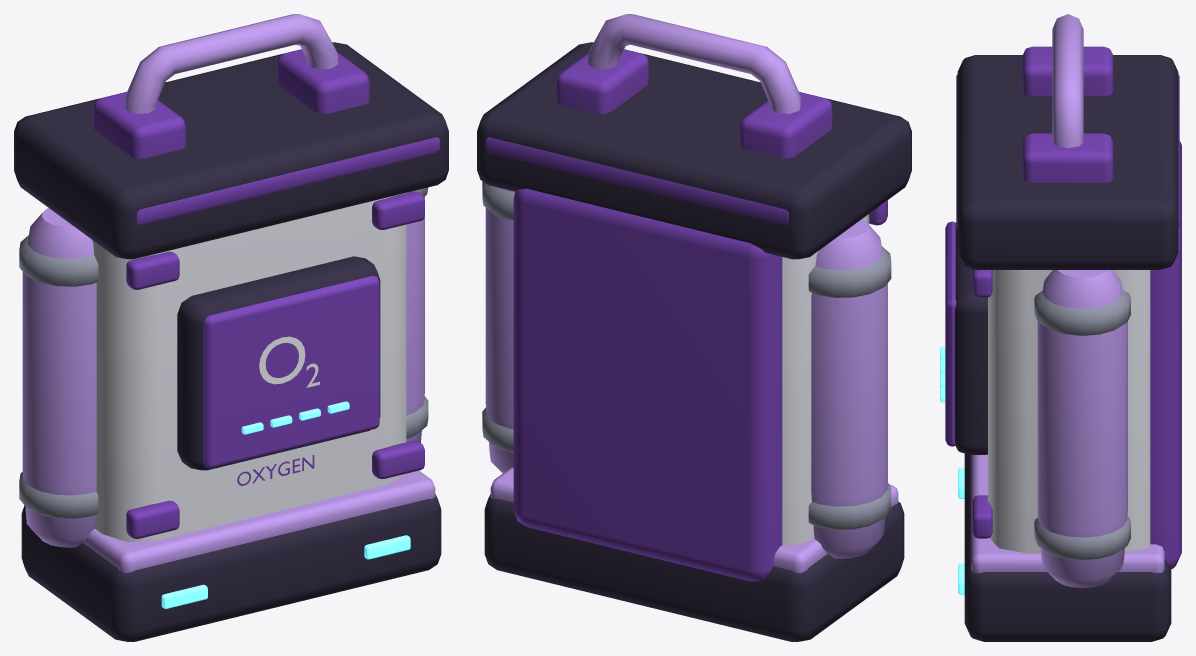
File: OxygenCassette_M.fbx
3 views of the same model, side by side, from view 1: azimuth 30°, elevation 25°; view 2: azimuth 150°, elevation 25°; view 3: azimuth 270°, elevation 25° (orthographic). The views are drawn at different scales.
Parts seen in each view (by area): view 1: OxygenCassette_M; view 2: OxygenCassette_M; view 3: OxygenCassette_M.
Boxes of the visible parts, <box> form: OxygenCassette_M: <box>14,14,448,641</box>; OxygenCassette_M: <box>477,14,911,641</box>; OxygenCassette_M: <box>940,14,1181,641</box>.
Size of the model in its own units: 0.4962 by 0.65 by 0.271.
